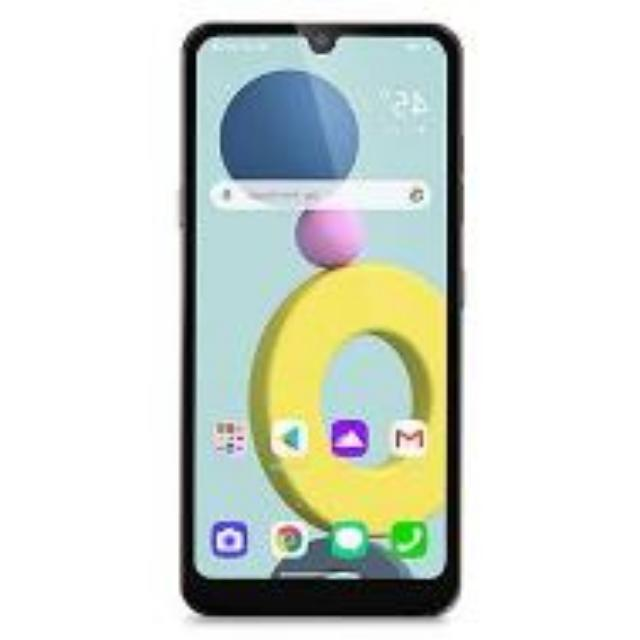mobile: (183, 25, 460, 620)
